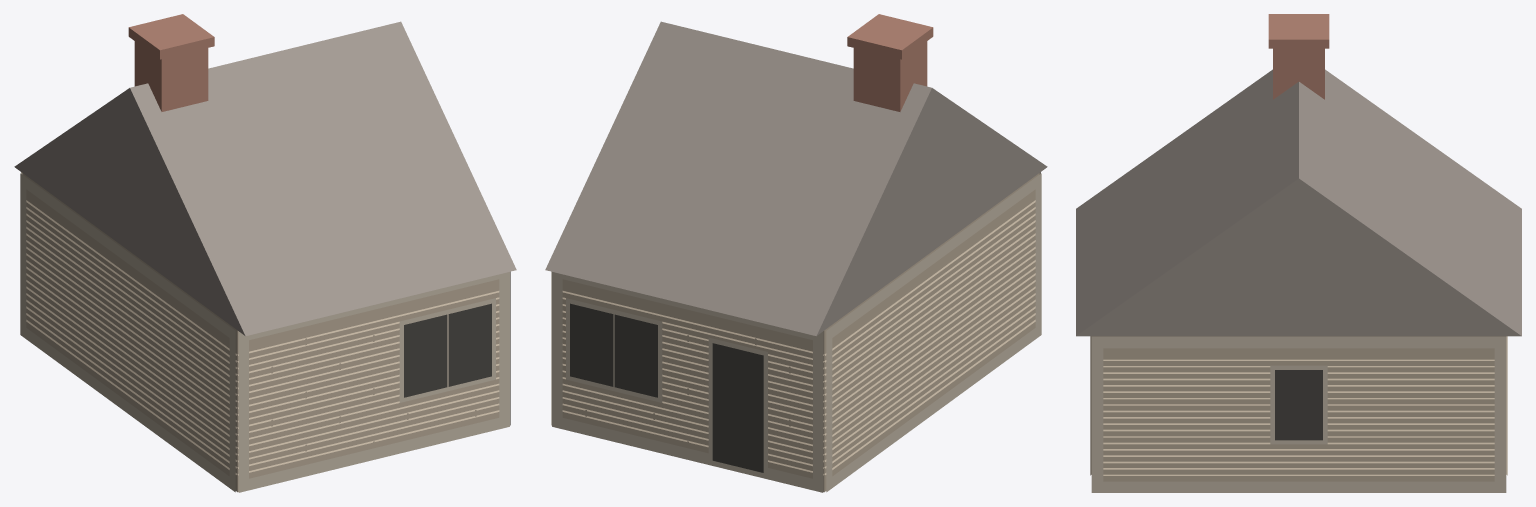
The model's file is inf_sawyer_dwelling_a__inferred_1835.glb.
3 views of the same model, side by side, from view 1: azimuth 30°, elevation 25°; view 2: azimuth 150°, elevation 25°; view 3: azimuth 270°, elevation 25° (orthographic). The views are drawn at different scales.
Parts seen in each view (by area): view 1: inf_sawyer_dwelling_a__inferred_1835; view 2: inf_sawyer_dwelling_a__inferred_1835; view 3: inf_sawyer_dwelling_a__inferred_1835.
Part boxes in pixels (left/top/right/bottom): inf_sawyer_dwelling_a__inferred_1835: left=14, top=14, right=516, bottom=492; inf_sawyer_dwelling_a__inferred_1835: left=545, top=14, right=1047, bottom=492; inf_sawyer_dwelling_a__inferred_1835: left=1076, top=14, right=1521, bottom=492.
Bounding box in the file's own units: 4.96 × 6.37 × 7.21.
